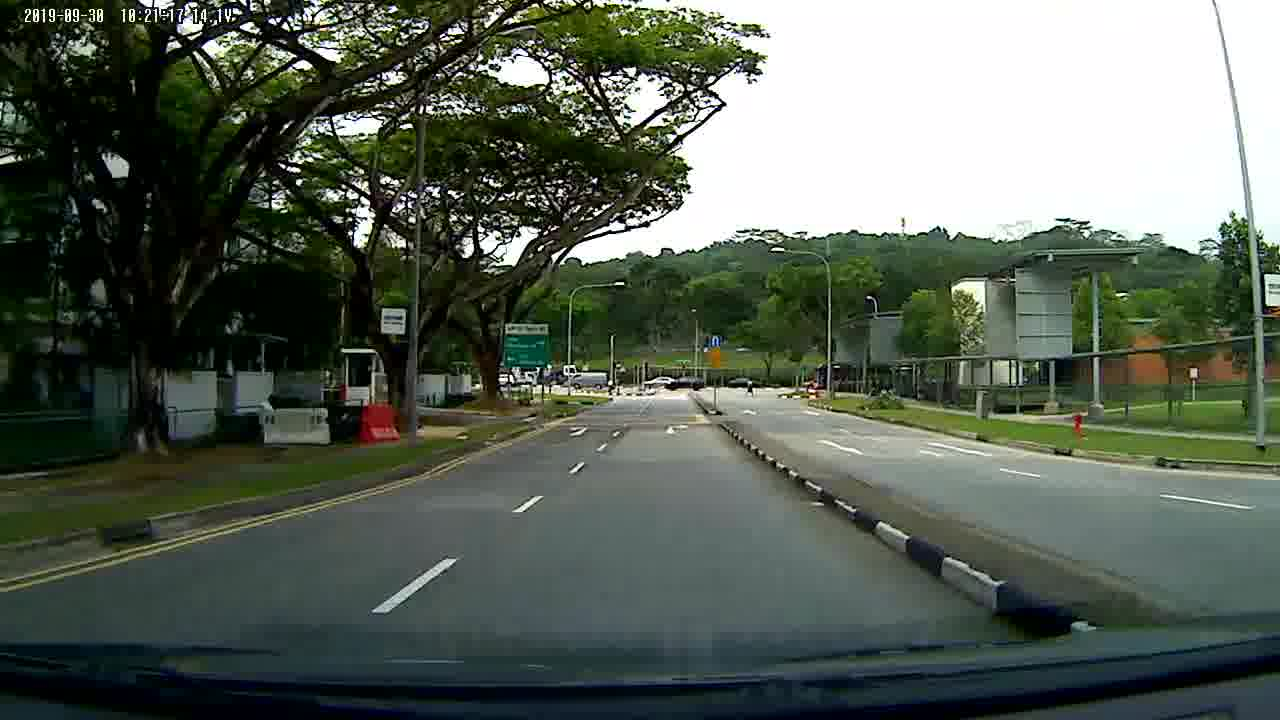car: (640, 374, 674, 388)
